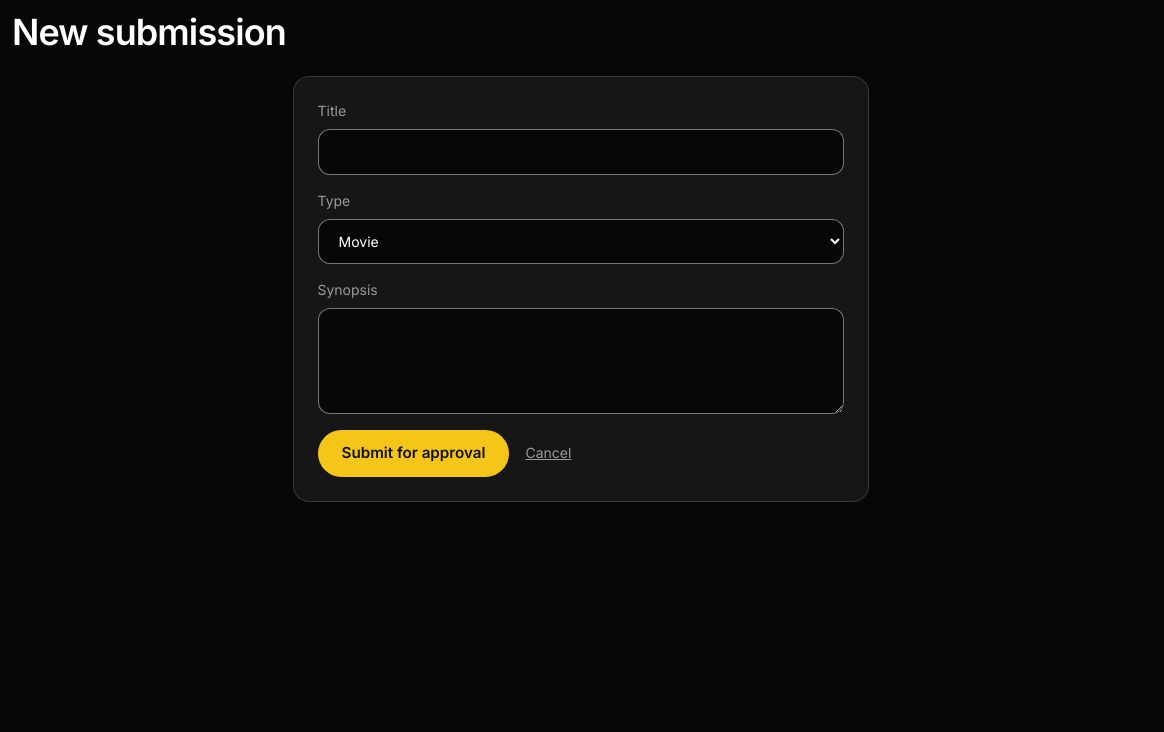
Test: SubmissionForm (new) › a new submission is listed as PENDING
In the field labelled "Title": (580, 152) [318,129,844,175], type "Brand New Title"
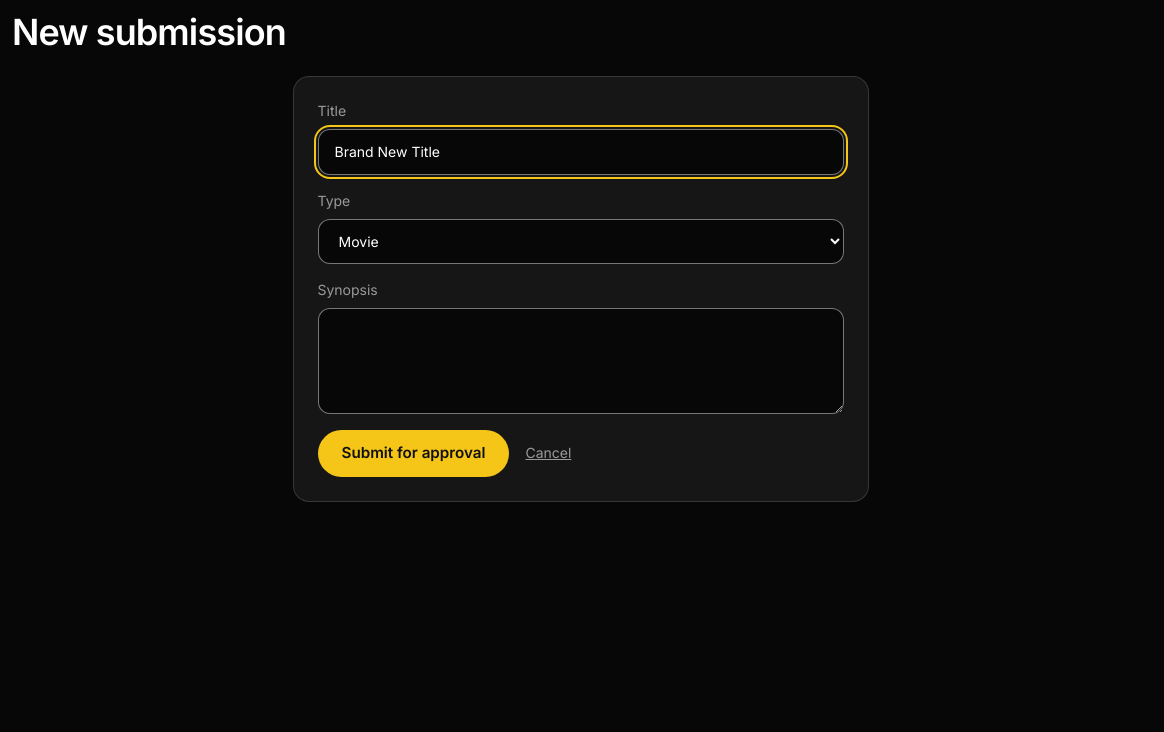
Select "Book" in the dropdown labelled "Type": (580, 242) [318,219,844,264]
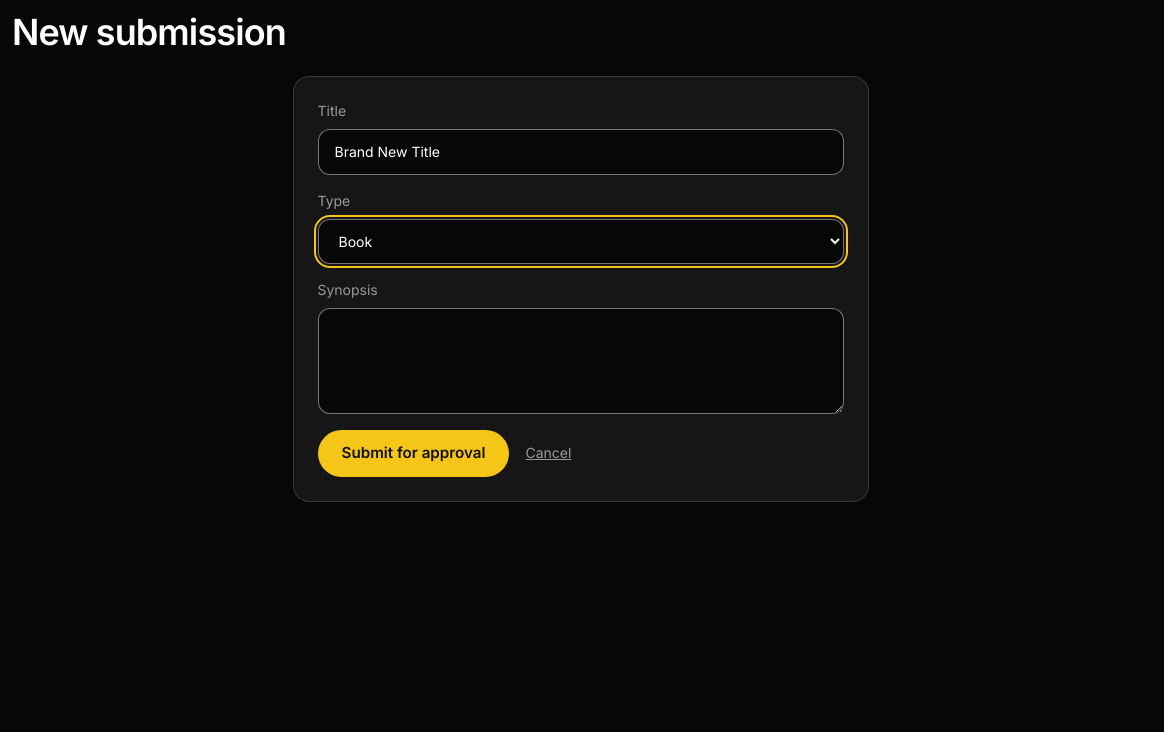
In the text box labelled "Synopsis": (580, 361) [318,308,844,414], type "A short pitch."
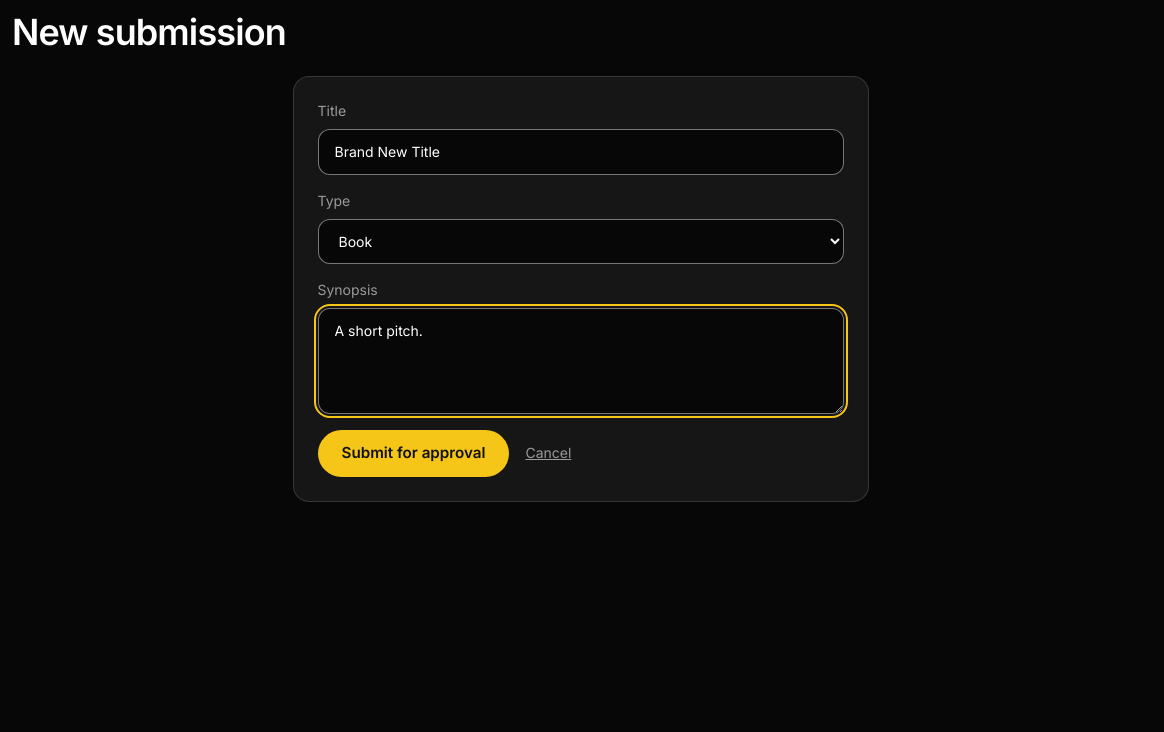
Click the button "Submit for approval": (414, 453) [318,430,510,477]
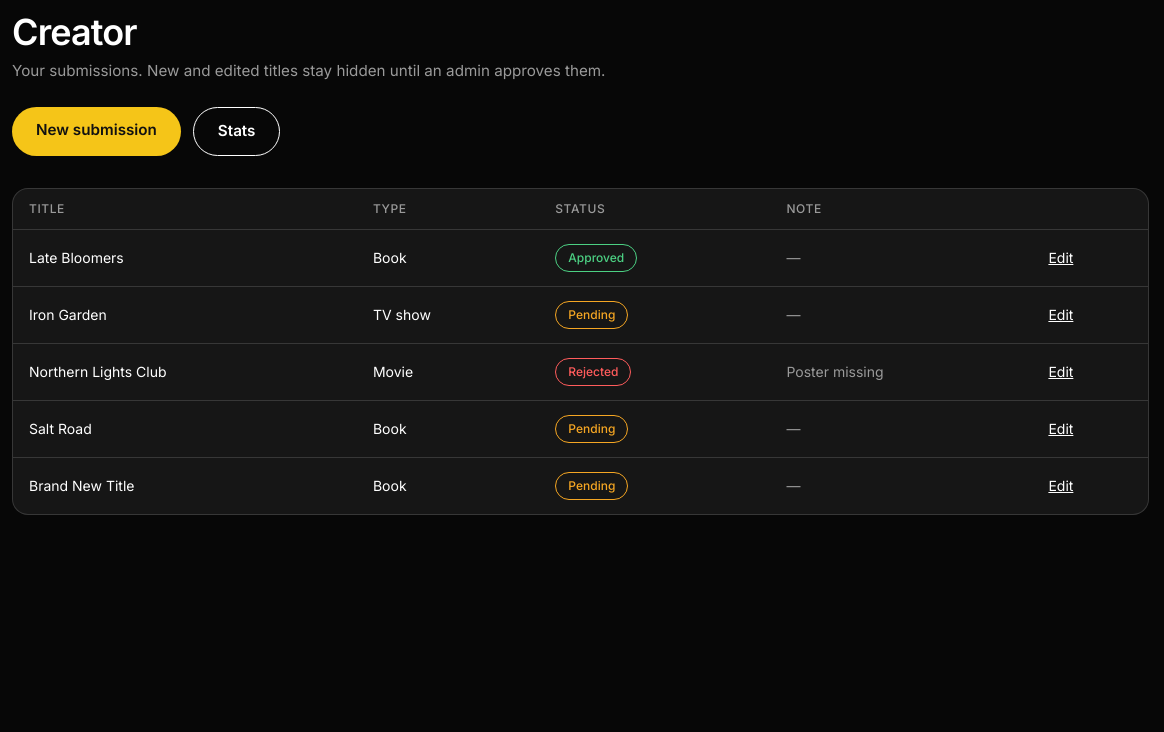
Expected: the text "Pending" in the row of "Brand New Title" is shown, [568,478,615,493]
